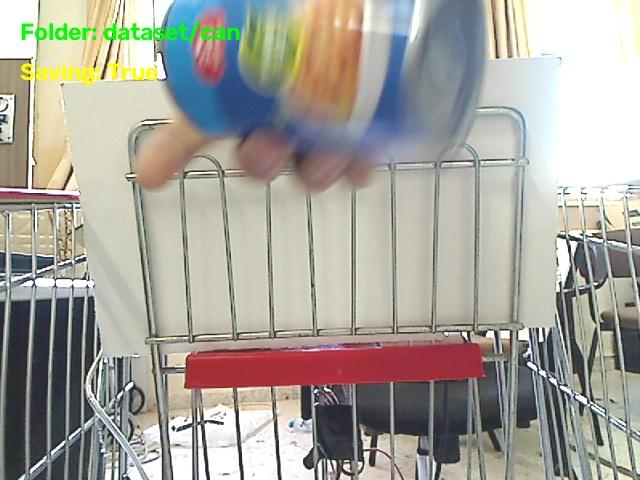can: (161, 0, 484, 155)
